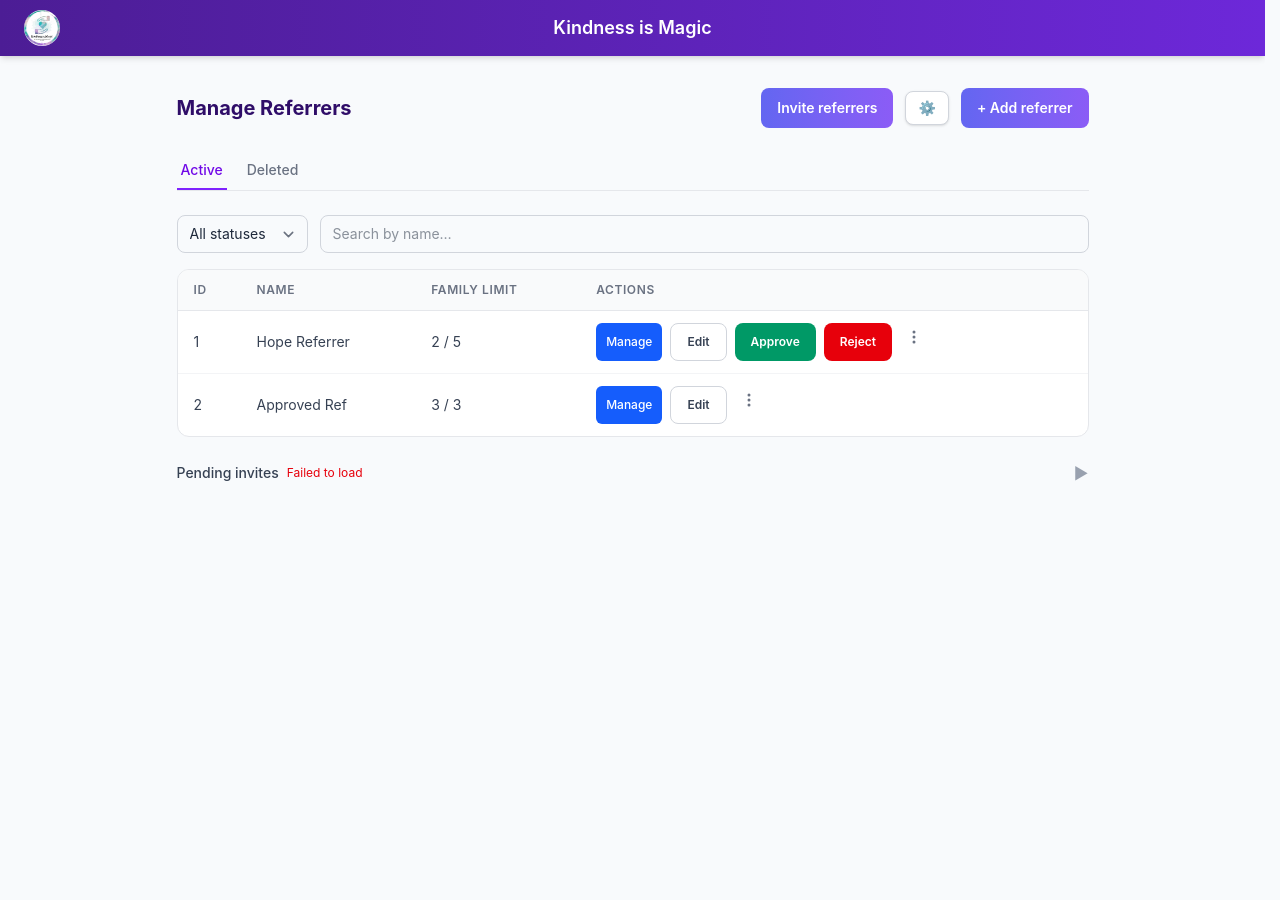
Test case: AdminReferrers › toggles the create form closed when the add button is clicked again
expect the text "Hope Referrer" is shown: met, box [240, 310, 415, 374]
Click the button "+ Add referrer": (1025, 108) [961, 88, 1088, 128]
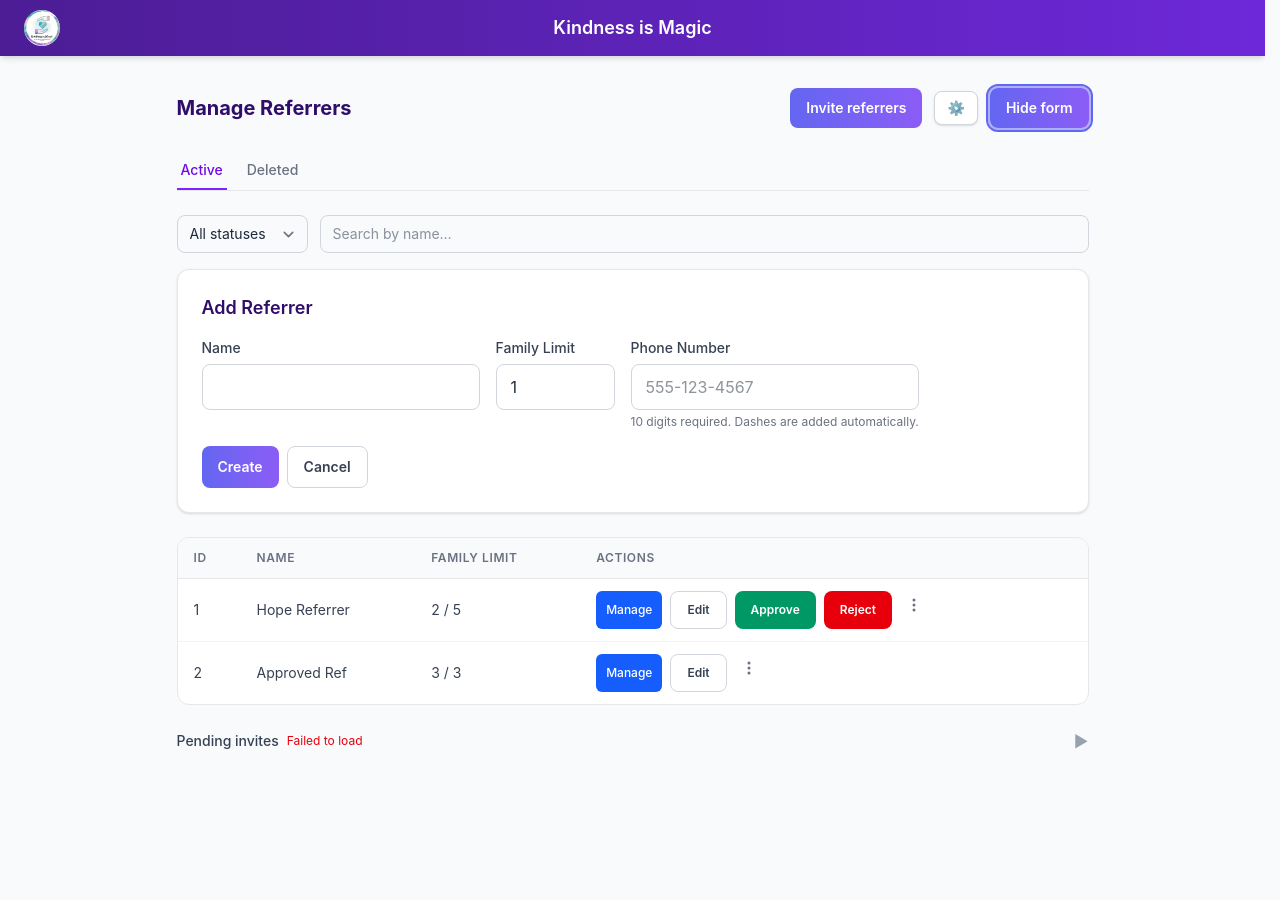
expect the heading "Add Referrer" is shown: met, box [202, 297, 313, 318]
expect the button "Hide form" is shown: met
Click the button "Hide form": (1039, 108) [990, 88, 1088, 128]
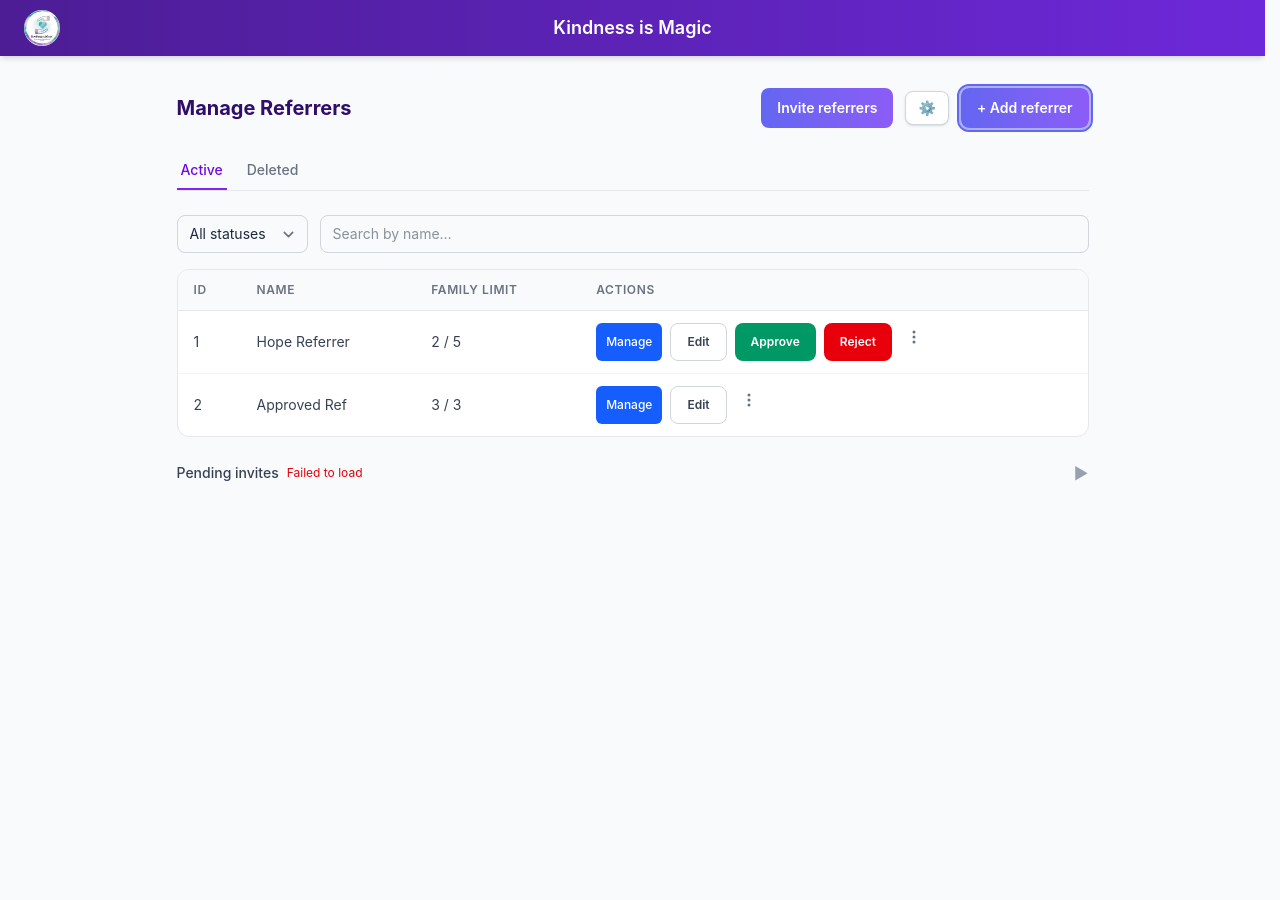
expect the button "+ Add referrer" is shown: met, box [961, 88, 1088, 128]
